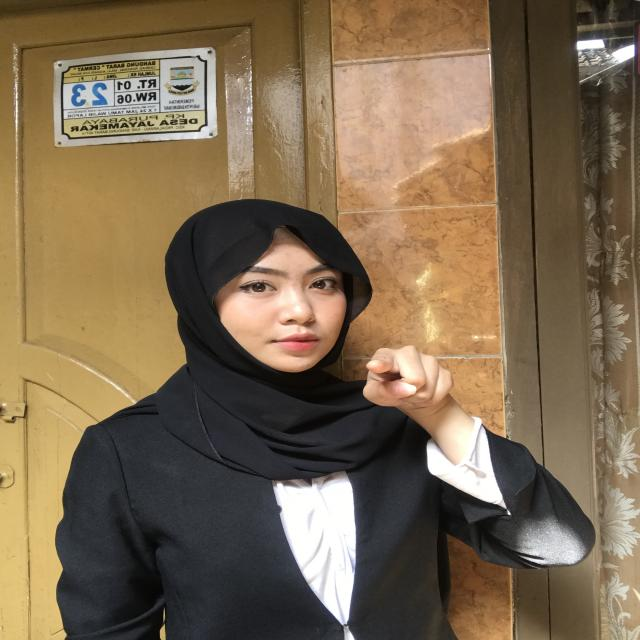kamu: (309, 338, 483, 443)
